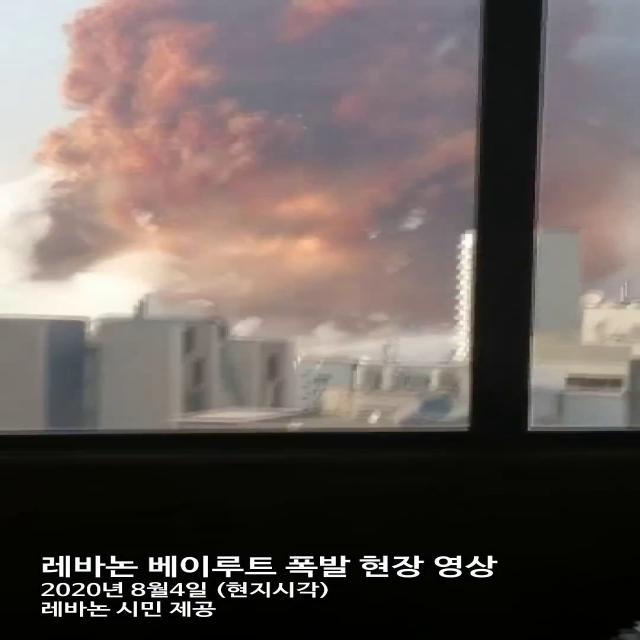explosion: (23, 0, 640, 398)
